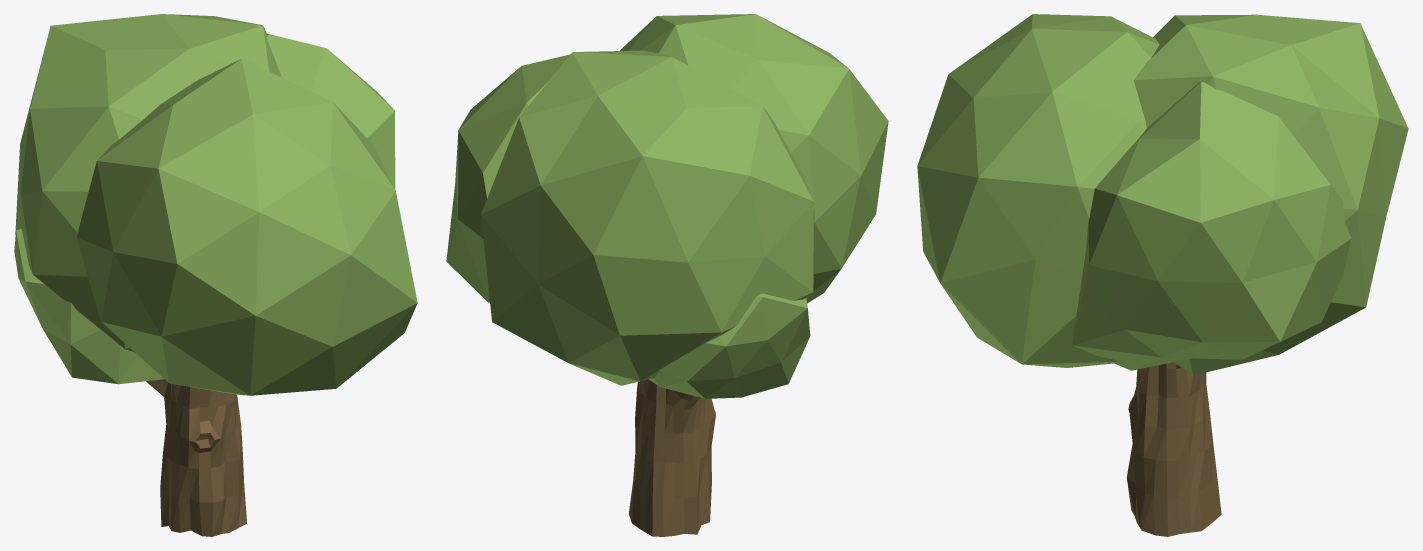
File: asset.gltf
3 views of the same model, side by side, from view 1: azimuth 30°, elevation 25°; view 2: azimuth 150°, elevation 25°; view 3: azimuth 270°, elevation 25° (orthographic). The views are drawn at different scales.
Visible parts, largest first — view 1: Icosphere, Cylinder; view 2: Icosphere, Cylinder; view 3: Icosphere, Cylinder.
Part boxes in pixels (x1,y1,x2,y2): Icosphere: (14, 14, 417, 395); Cylinder: (146, 379, 246, 536); Icosphere: (446, 14, 888, 398); Cylinder: (628, 379, 715, 536); Icosphere: (917, 14, 1408, 375); Cylinder: (1126, 362, 1221, 536).
Size of the model in its own units: 0.6599 by 0.8729 by 0.7828.
